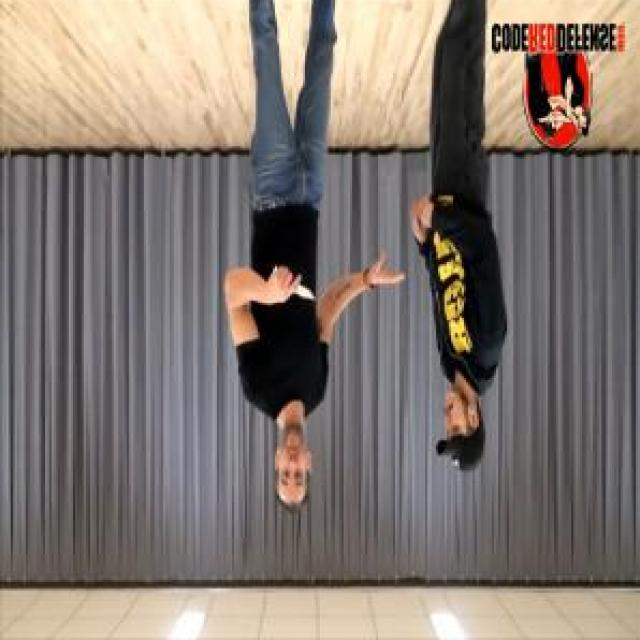knife: (270, 261, 318, 311)
